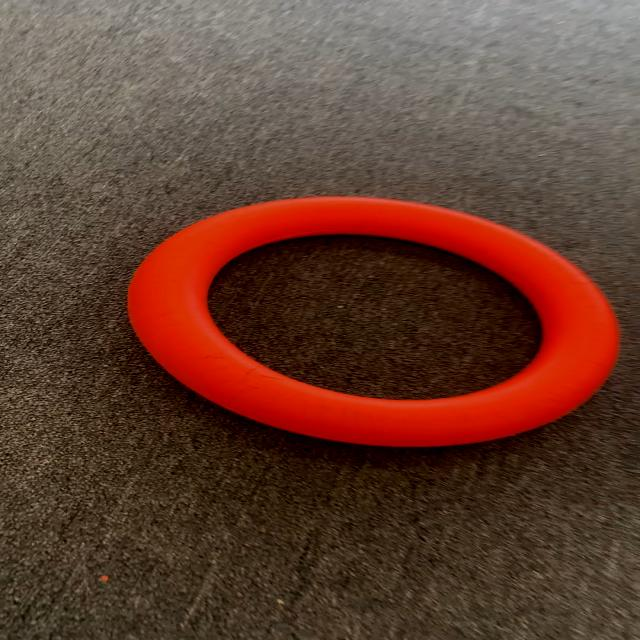notes: (121, 194, 623, 453)
